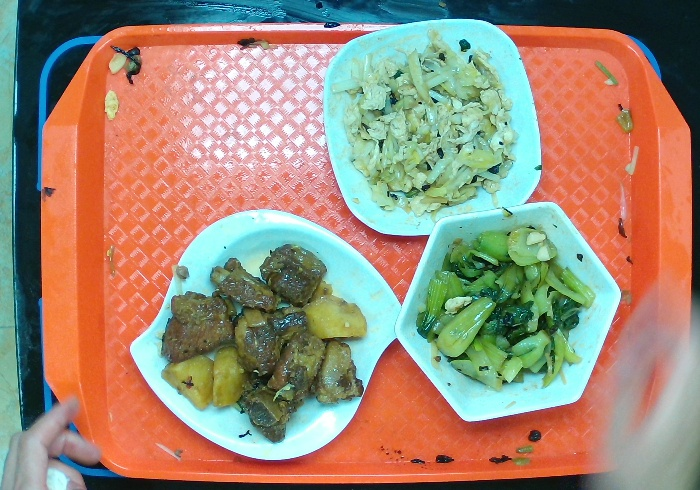RJxy-Liu_Jiao_Wan: (397, 204, 624, 423)
RJxy-Shuang_Jiao_Pan: (127, 212, 405, 463)
RJxy-Si_Fang_Wan: (318, 17, 544, 234)
